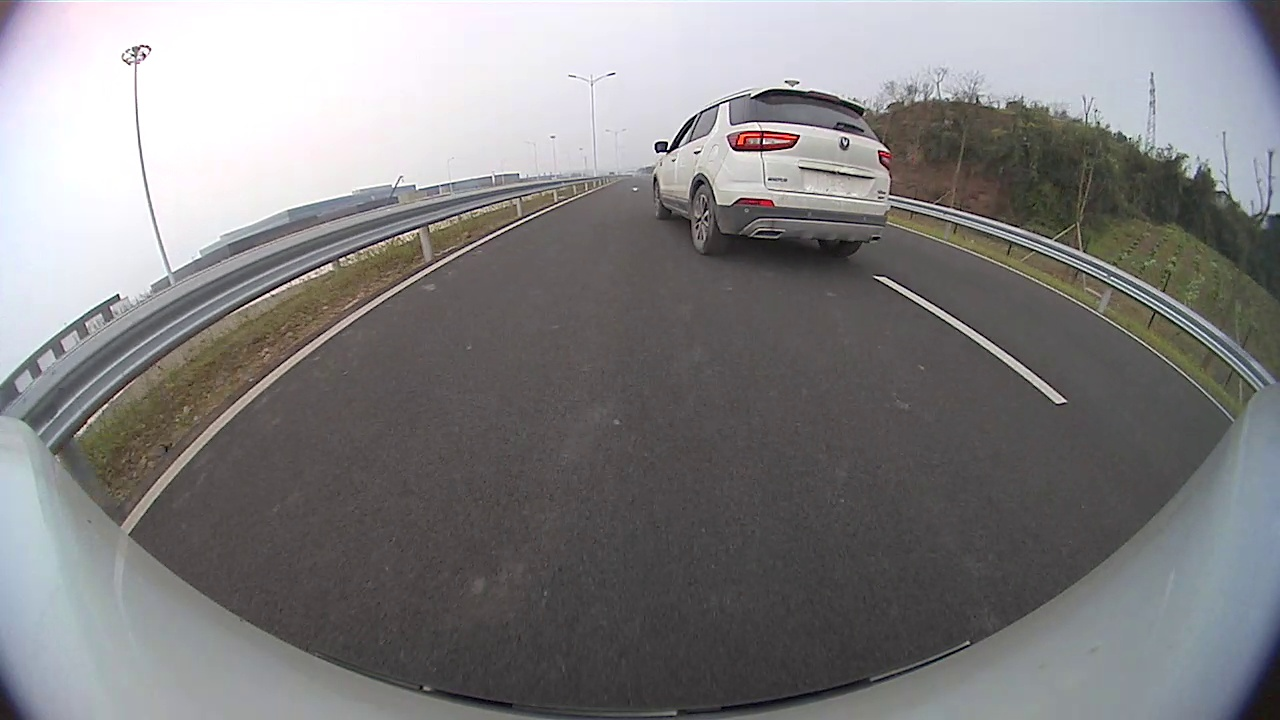car: (652, 85, 893, 257)
rear: (689, 181, 727, 255)
